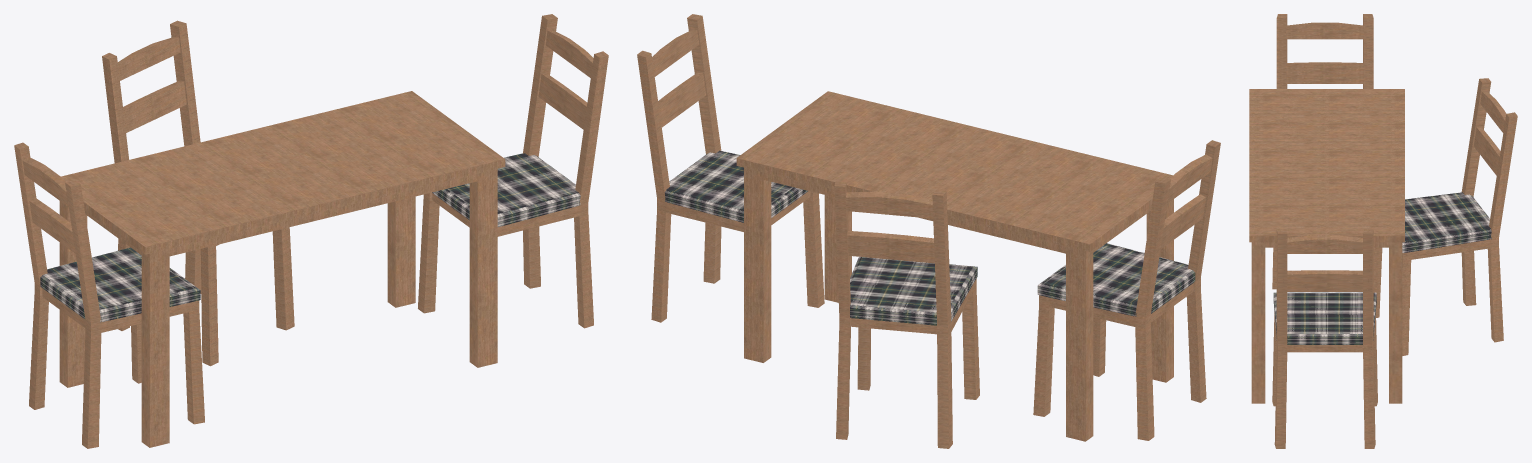
The model's file is low-poly_psx_style_dining_table__chairs_set_2.glb.
3 renders of one model, left to right at view 1: azimuth 30°, elevation 25°; view 2: azimuth 150°, elevation 25°; view 3: azimuth 270°, elevation 25°, orthographic. The views are drawn at different scales.
Parts seen in each view (by area): view 1: Table Wooden, Wooden Chair.001, Wooden Chair, Wooden Chair.002; view 2: Table Wooden, Wooden Chair.002, Wooden Chair.001, Wooden Chair; view 3: Table Wooden, Wooden Chair, Wooden Chair.002, Wooden Chair.001.
Boxes of the visible parts, box(x1,y1,x2,y2) form: Table Wooden: box(59, 91, 505, 447); Wooden Chair.001: box(14, 142, 204, 448); Wooden Chair: box(418, 14, 608, 328); Wooden Chair.002: box(102, 20, 294, 366); Table Wooden: box(736, 91, 1173, 441); Wooden Chair.002: box(834, 181, 979, 448); Wooden Chair.001: box(1033, 140, 1220, 440); Wooden Chair: box(637, 14, 824, 322); Table Wooden: box(1249, 89, 1404, 403); Wooden Chair: box(1272, 229, 1377, 448); Wooden Chair.002: box(1373, 78, 1517, 355); Wooden Chair.001: box(1272, 14, 1373, 289).
Bounding box in the file's own units: 2.47 × 1.16 × 1.28.
3 materials, 3 textured.
